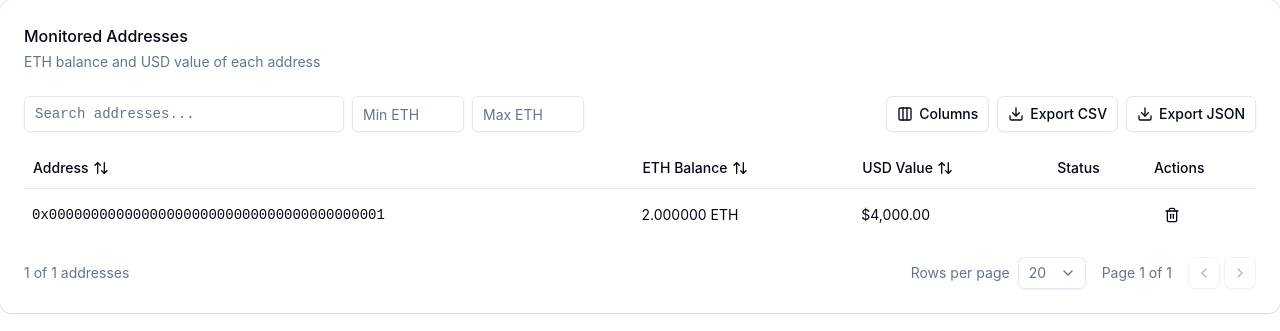
Scenario: AddressTable › hides a column unchecked in the Columns menu
// Radix opens the menu on pointer and keyboard events, not click
Press Enter in the button "Columns", box [886, 96, 989, 132]
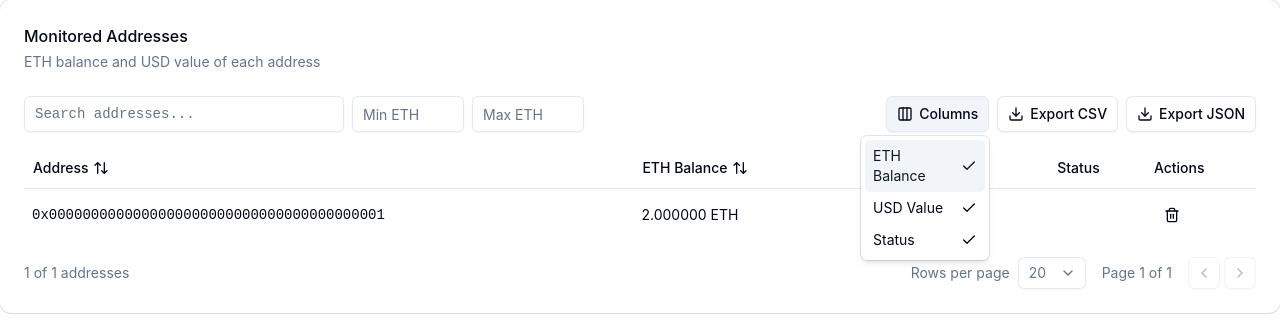
Click the menu item "USD Value". click: (925, 208)
box: [873, 199, 977, 216]
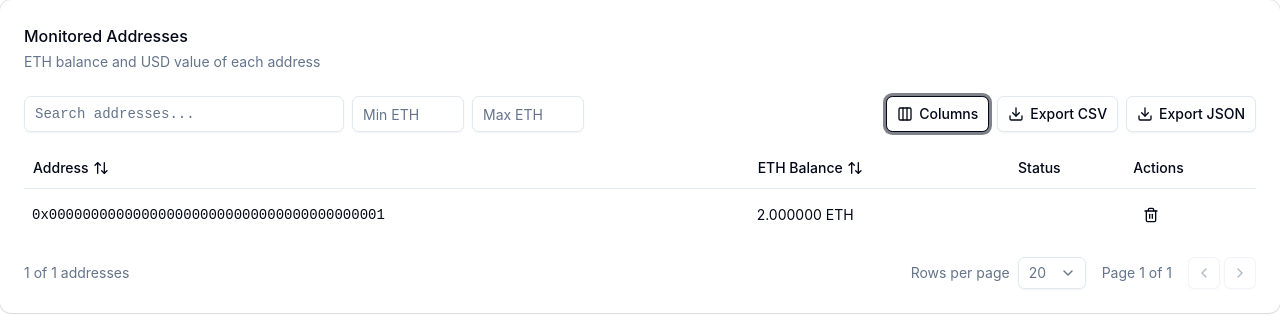
Expected: the text "2.000000 ETH" is shown, [749, 188, 1010, 240]
Expected: the text "$4,000.00" is gone
